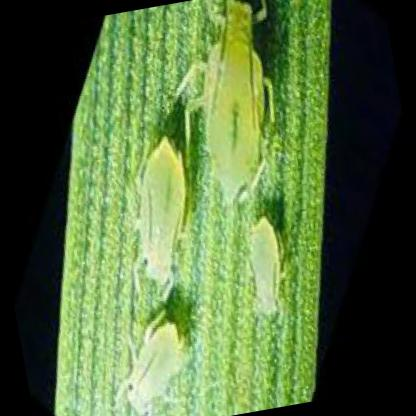schizaphis graminum: (206, 0, 275, 207), (137, 132, 184, 292), (122, 311, 179, 412), (251, 217, 277, 315)
